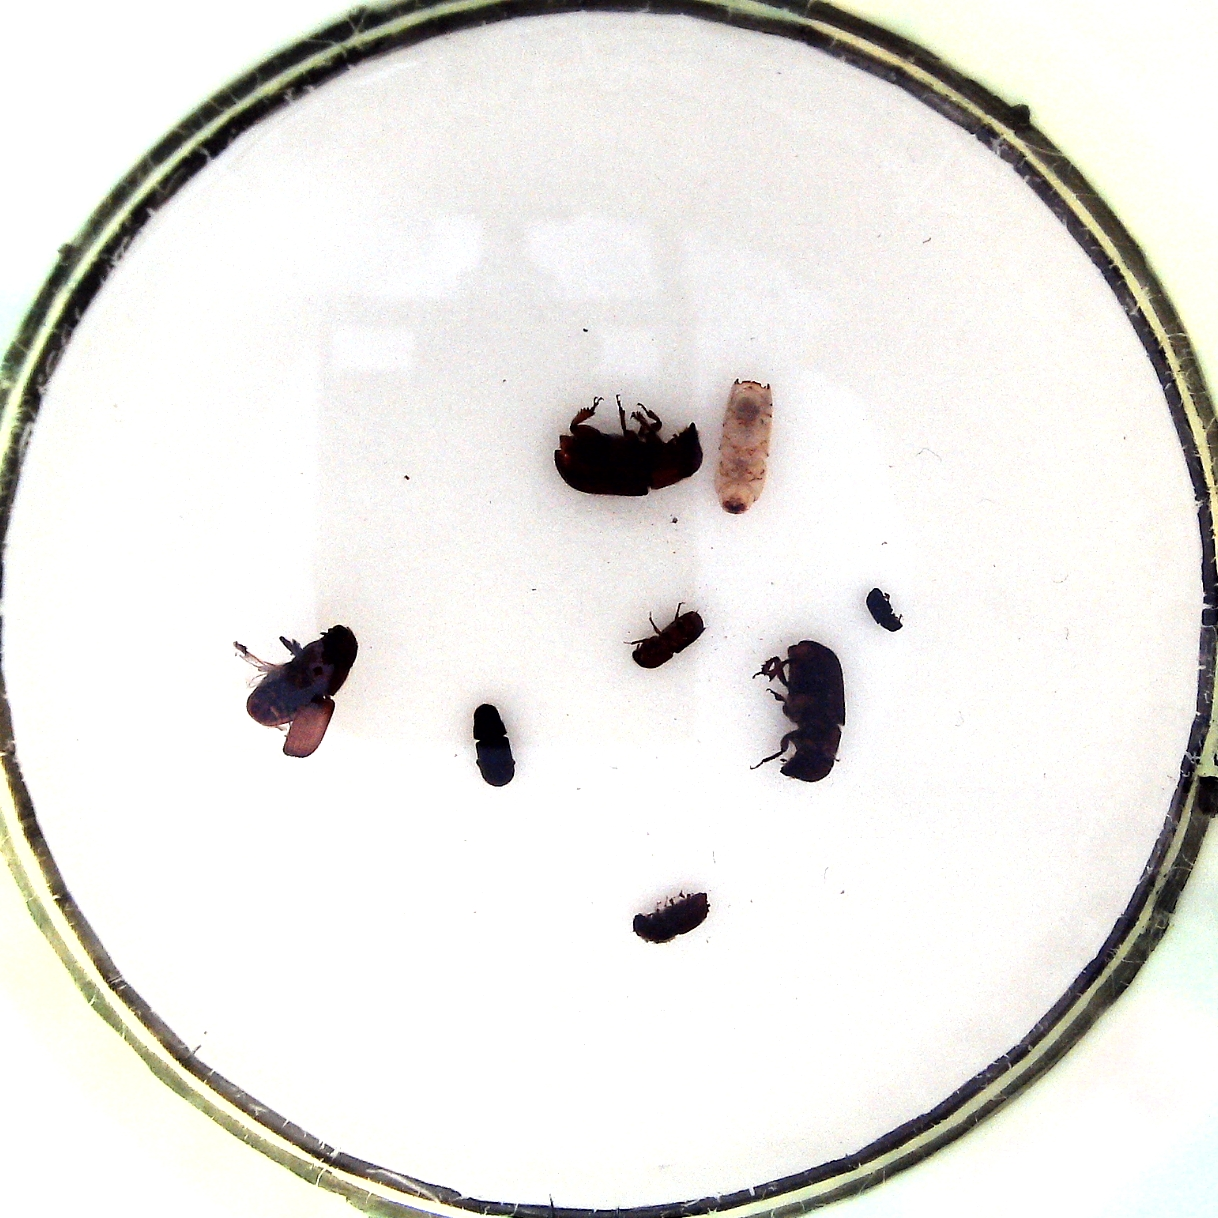Boerner: (712, 375, 776, 518)
Leconte: (236, 621, 361, 760), (550, 393, 707, 496), (753, 639, 851, 785)
Linnaeus: (630, 884, 715, 946)
acuminatus: (625, 600, 707, 671)
armandi: (468, 698, 520, 790)
coleoptera: (863, 587, 907, 636)
